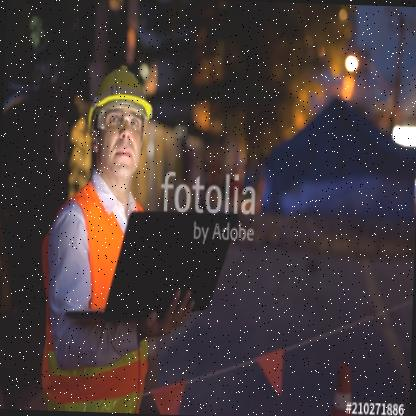capacete: (82, 62, 158, 184)
colete_refletivo: (32, 172, 158, 412)
